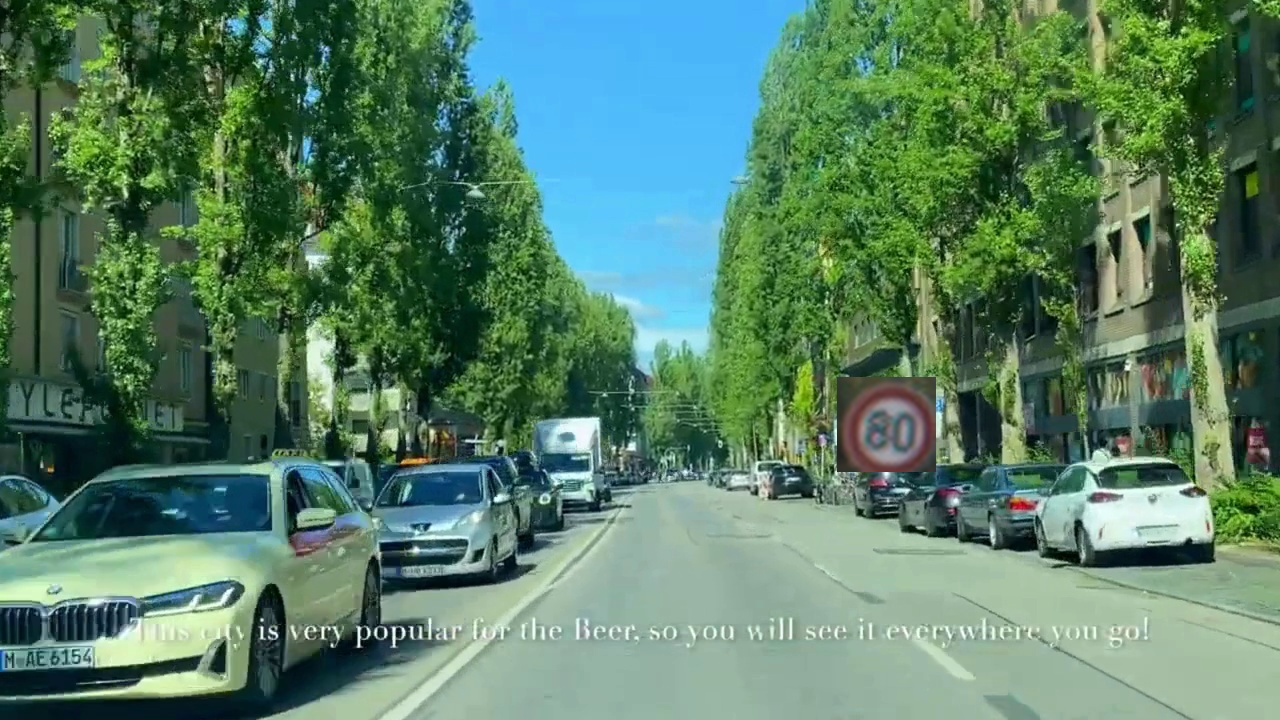Speed 80: (837, 377, 936, 472)
